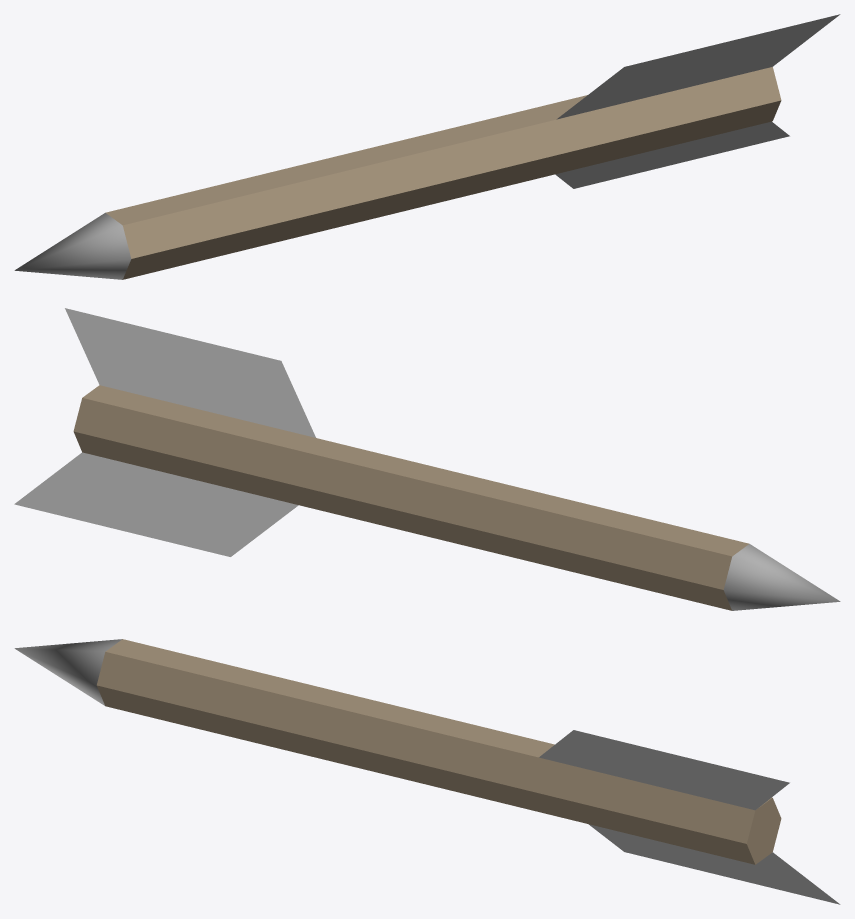
Rendered from arrow.fbx.
The picture shows the model from 3 angles, top to bottom: view 1: azimuth 30°, elevation 25°; view 2: azimuth 150°, elevation 25°; view 3: azimuth 330°, elevation 25°; orthographic projection.
Visible parts, largest first — view 1: pCylinder1; view 2: pCylinder1; view 3: pCylinder1.
Part boxes in pixels (<box>): pCylinder1: <box>14,14,840,279</box>; pCylinder1: <box>14,308,840,610</box>; pCylinder1: <box>14,639,840,904</box>.
Bounding box in the file's own units: 33.12 × 6.29 × 3.63.
